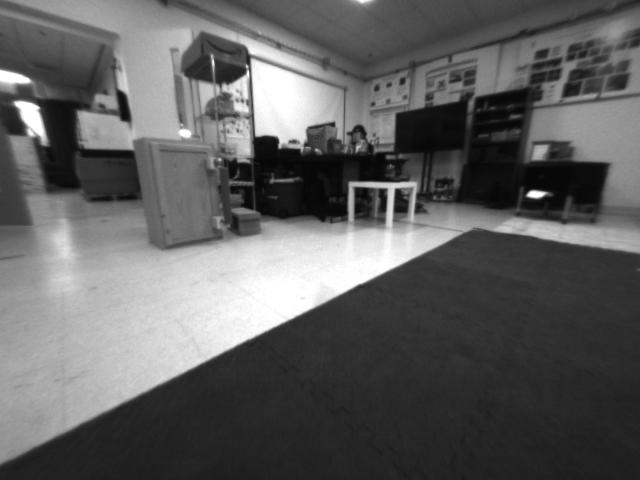coffee_pot: (373, 148, 398, 183)
